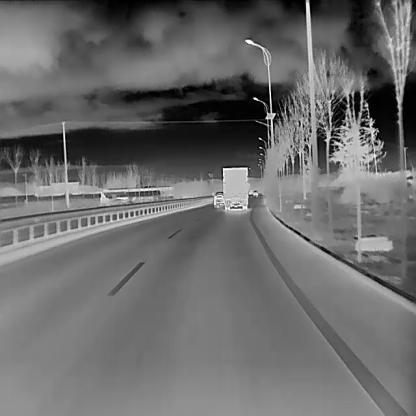car: (222, 166, 249, 210), (212, 190, 225, 206), (253, 189, 258, 197)
